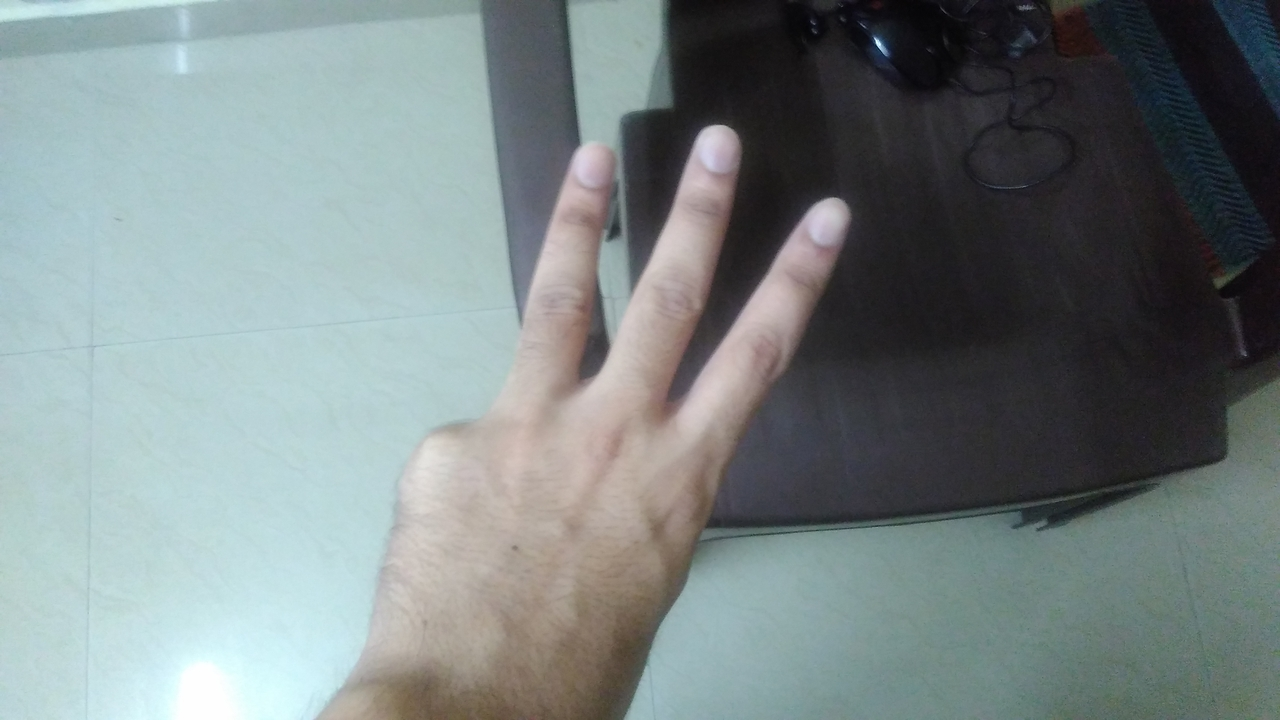fingertip: (796, 190, 860, 256), (688, 118, 748, 182), (562, 132, 620, 192)
